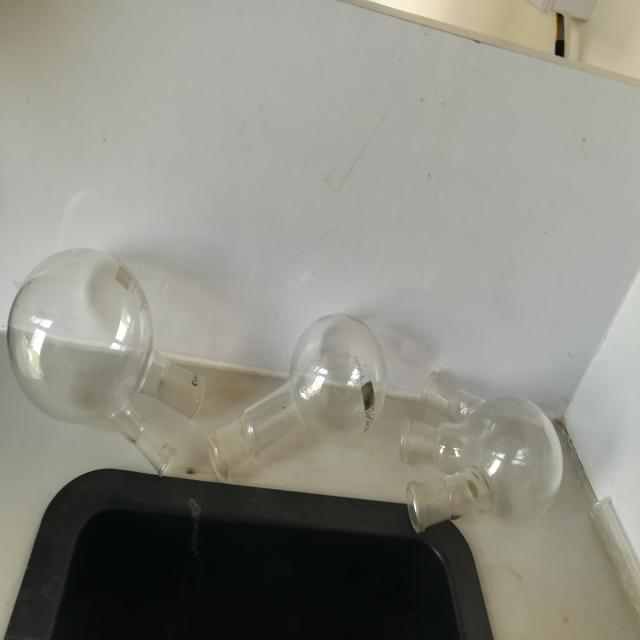Round_Bottom_Flask_Borosilicate_Glass_1_Neck: (213, 254, 399, 520)
Round_Bottom_Flask_Borosilicate_Glass_2_Neck: (0, 215, 217, 495)
Round_Bottom_Flask_Borosilicate_Glass_3_Neck: (394, 269, 591, 590)
